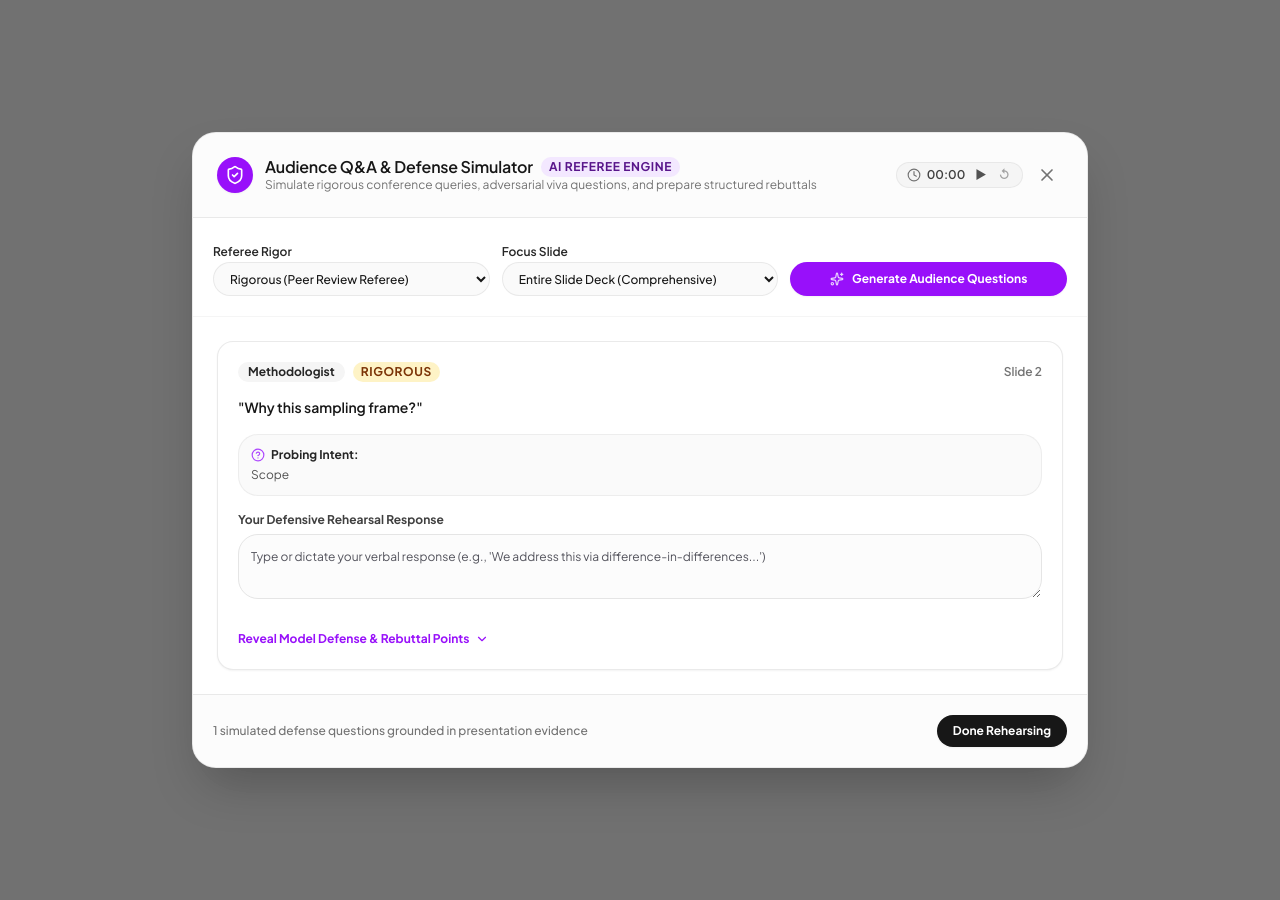
Scenario: AudienceQaSimulator › toggles model defense arguments and permits typing practice responses
Replace the text in the text box with placeholder "Type or dictate your verbal response" with "We sampled every enrolled student." at [640, 566], box [238,534,1042,599]
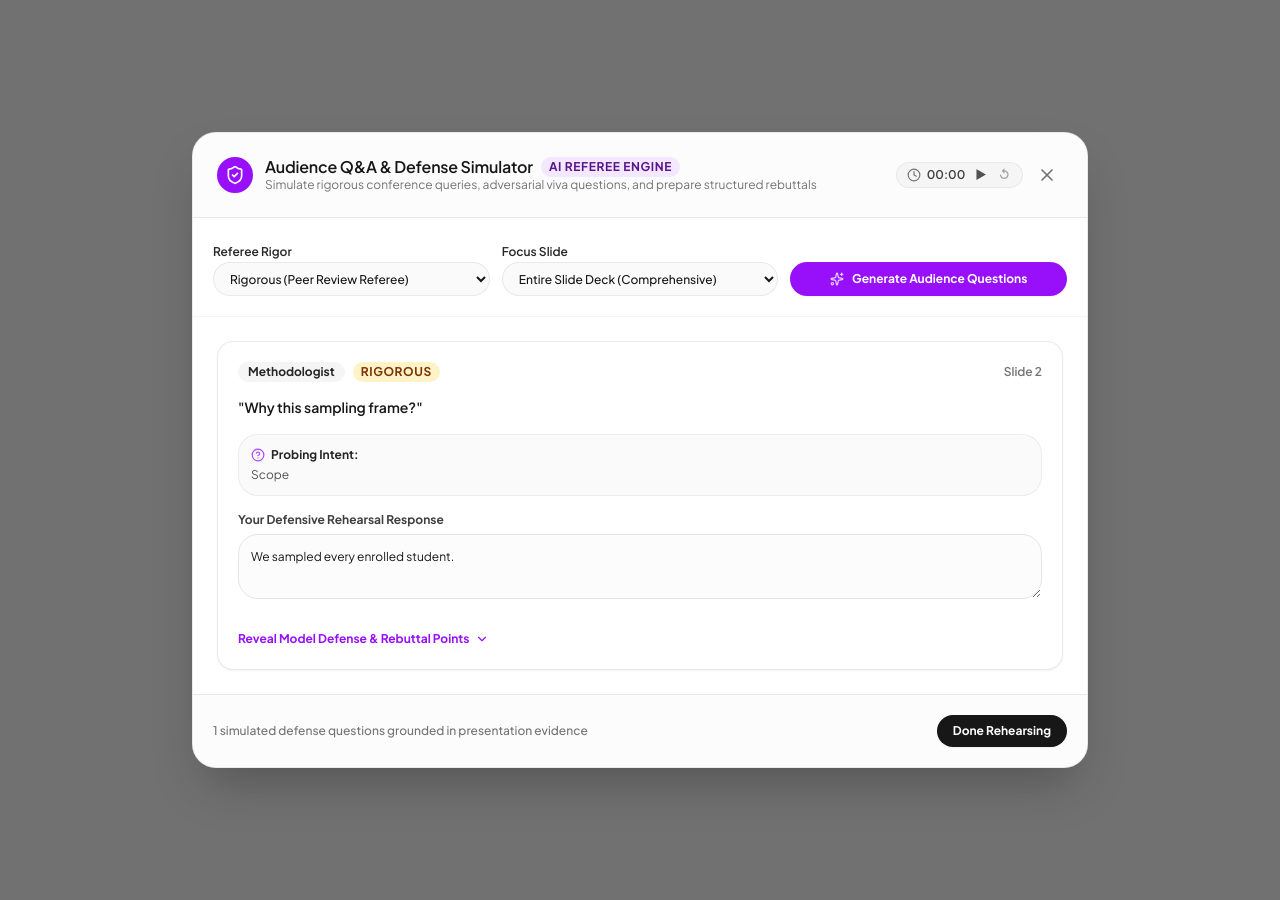
Click the button "Reveal Model Defense & Rebuttal Points".
click(364, 639)  # box [238,631,489,647]
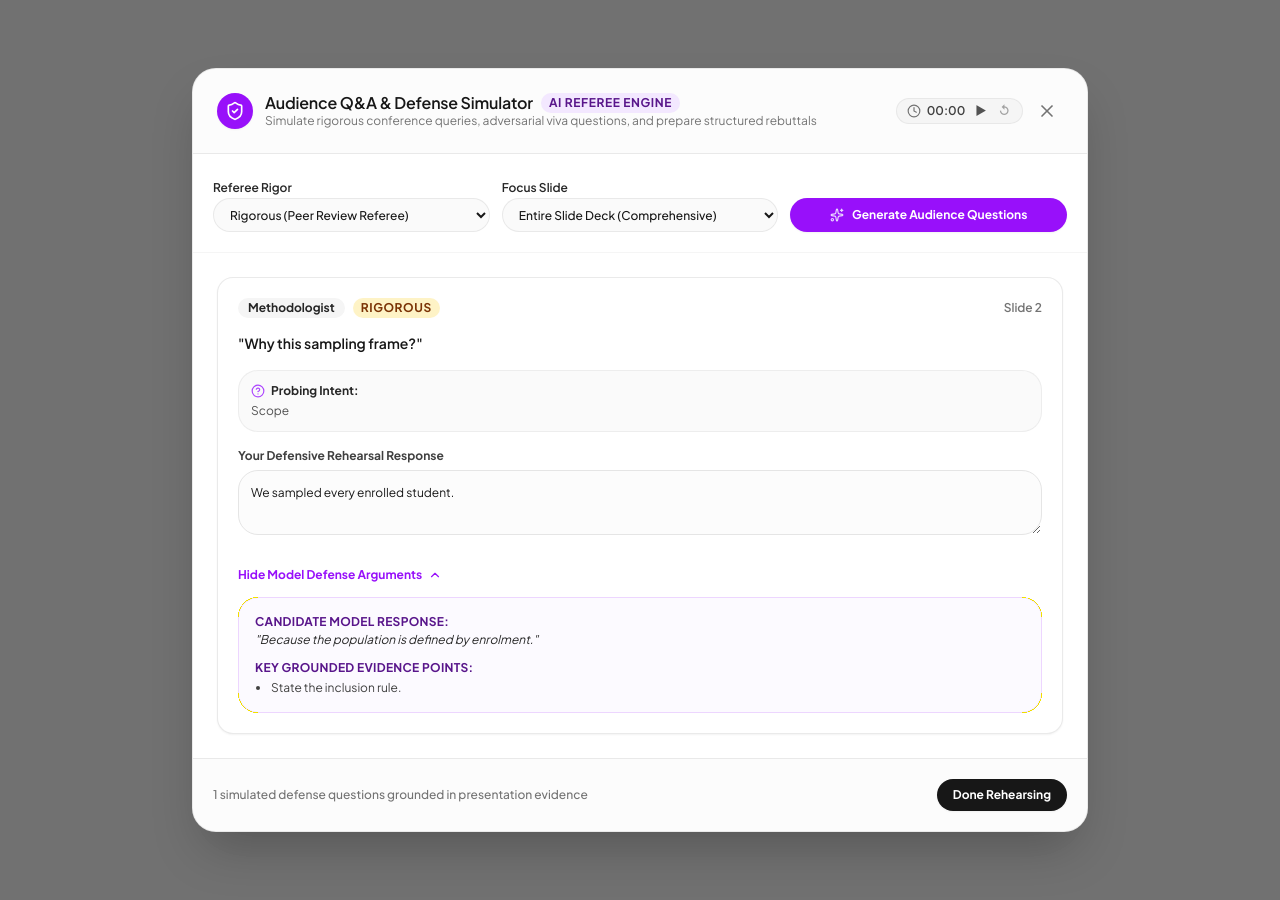
Expected: the text "Candidate Model Response:" is shown, [255,614,449,629]
Expected: the list item "State the inclusion rule." is shown, [271,680,401,695]
Click the button "Hide Model Defense Arguments".
click(340, 575)  # box [238,567,442,583]
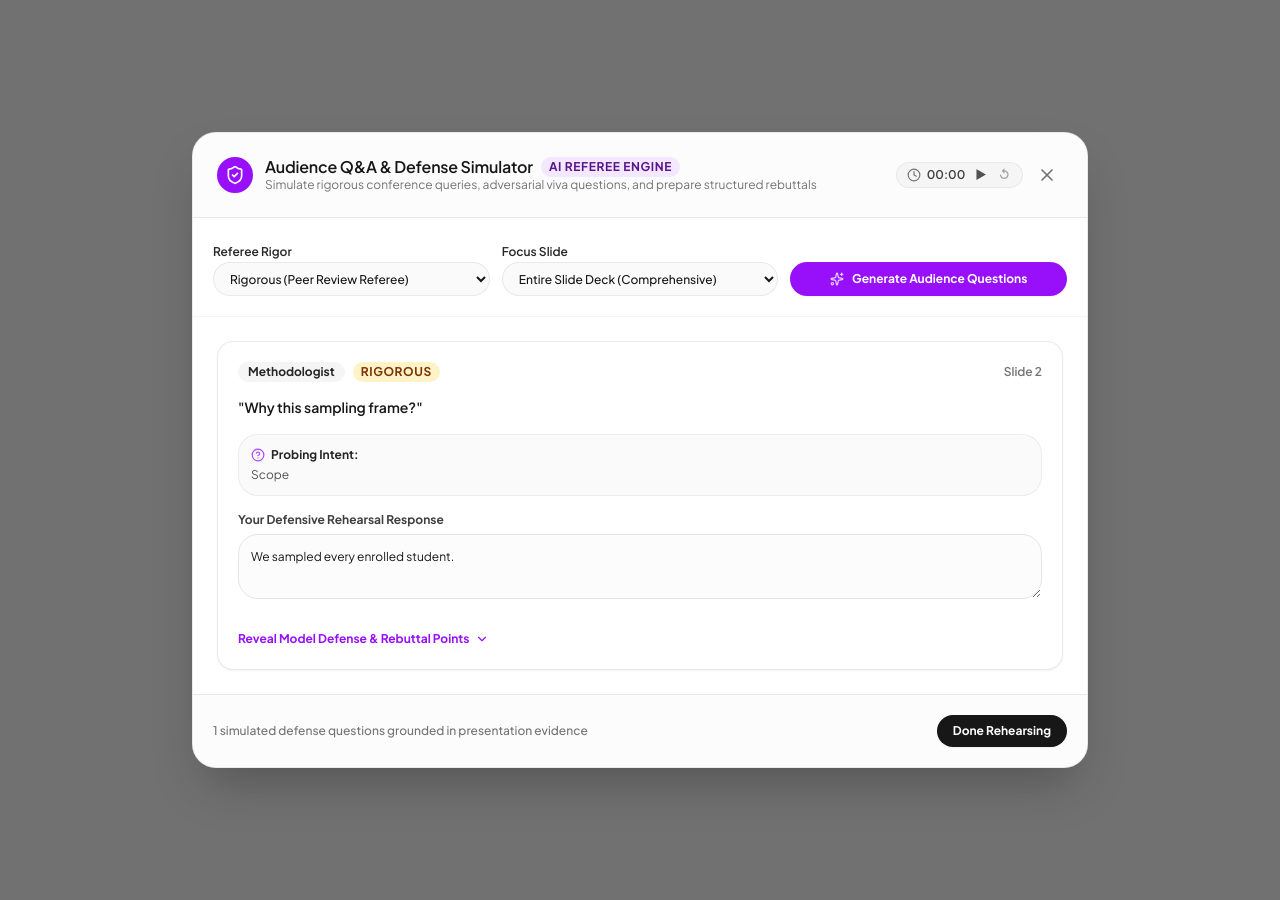
Expected: the text "Candidate Model Response:" is gone
